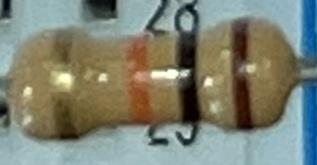Black: (173, 30, 208, 121)
Brown: (226, 16, 259, 133)
Orange: (120, 35, 157, 125)
Side-Gold: (50, 30, 81, 140)
